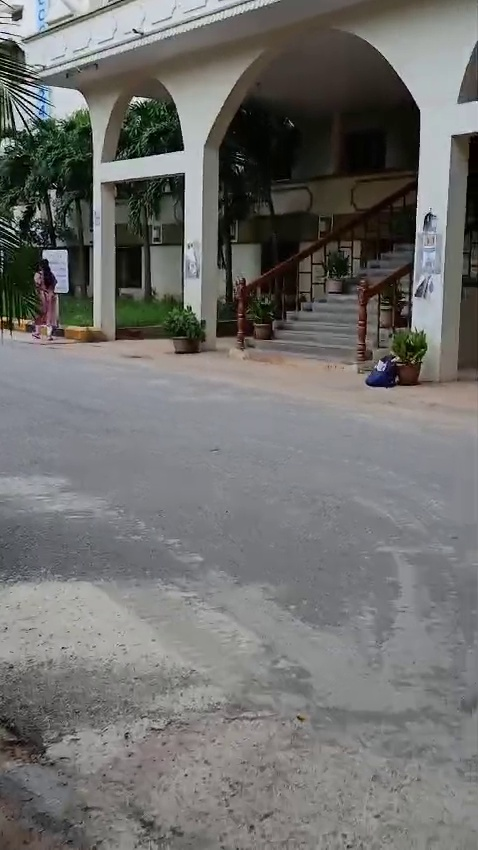bag: (361, 351, 392, 393)
